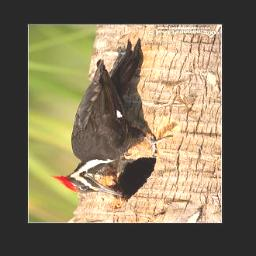Woodpecker: (50, 38, 174, 197)
